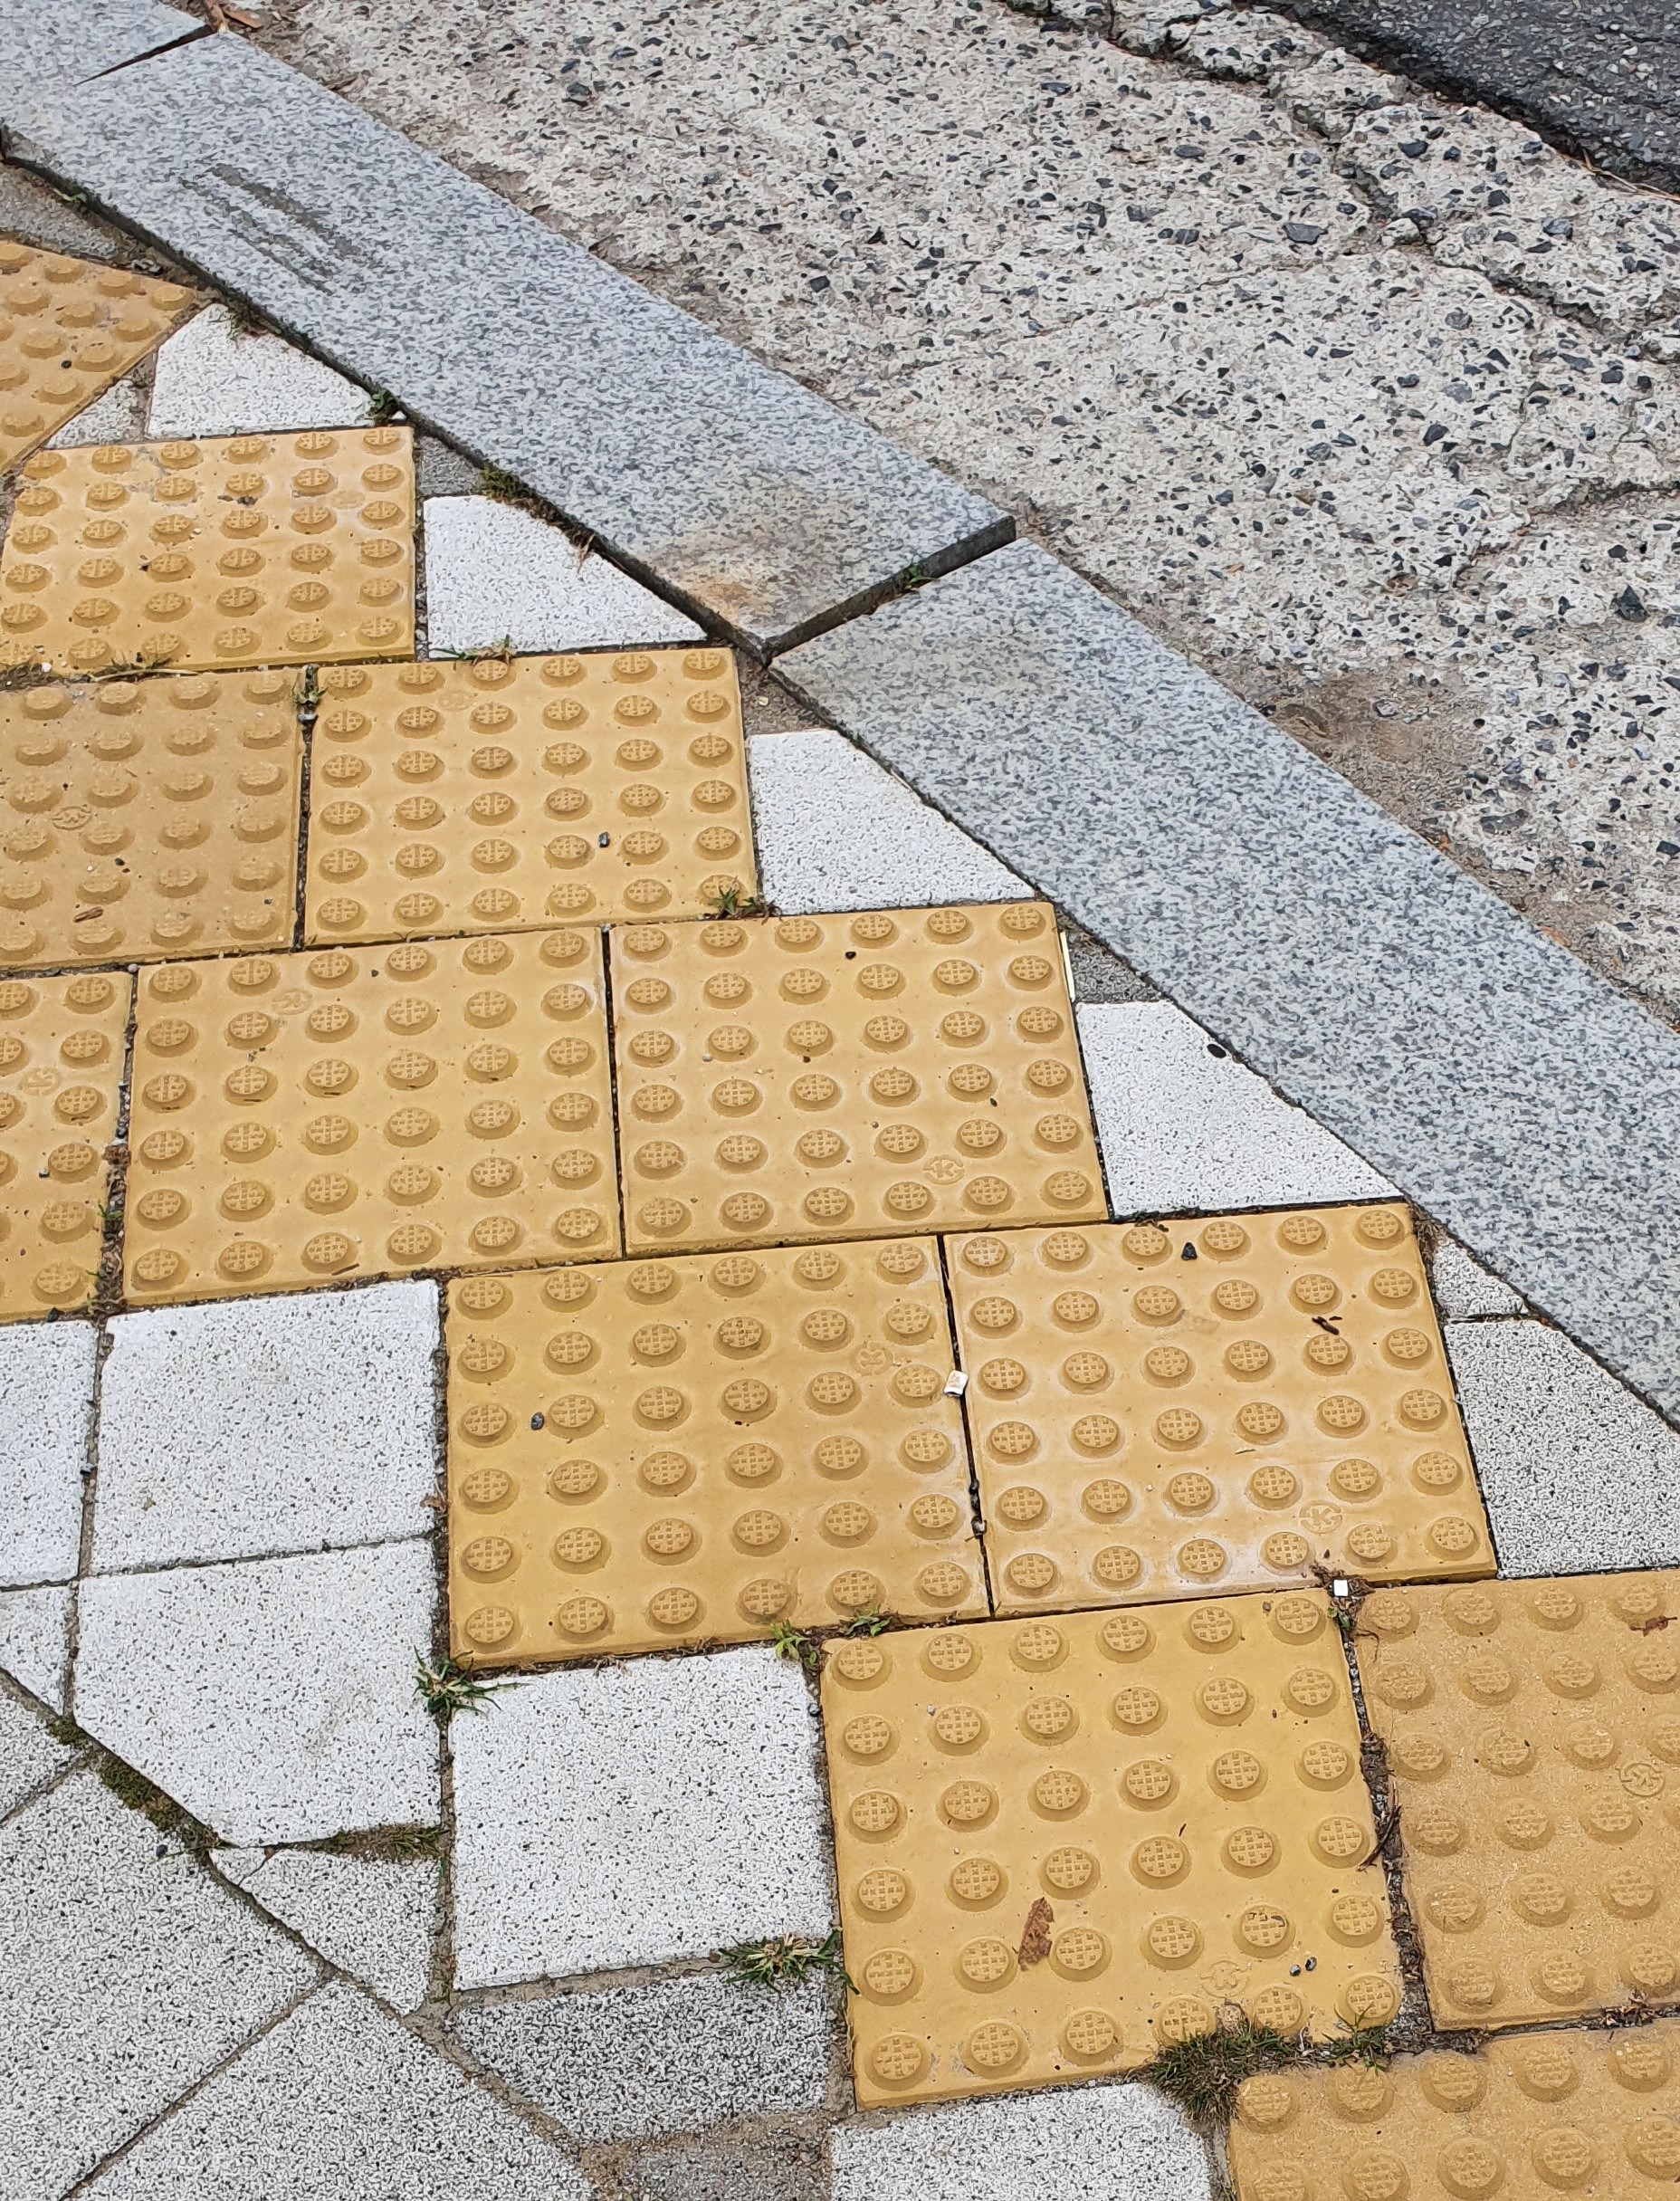warningBlock: (814, 1601, 1376, 2053), (118, 937, 686, 1248), (461, 1260, 1002, 1578), (595, 860, 1105, 1193), (969, 1236, 1452, 1539), (330, 642, 720, 925), (41, 452, 429, 642)
